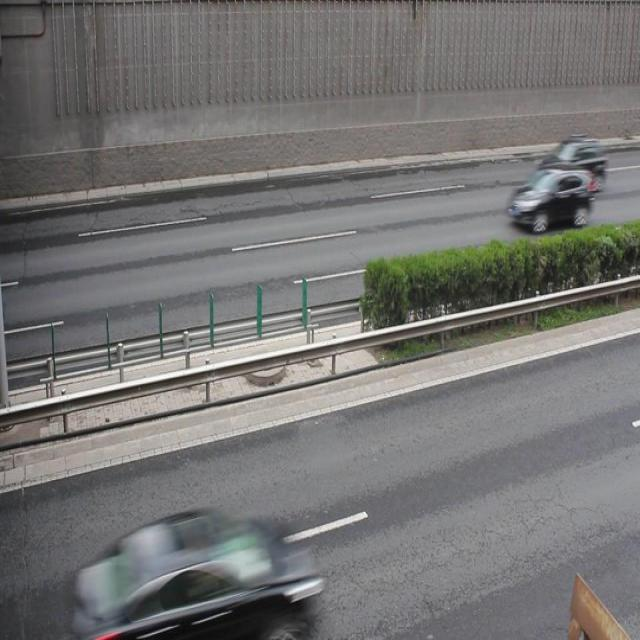car: (77, 509, 321, 640), (506, 162, 592, 234), (536, 135, 607, 193)
